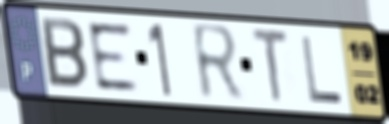1: (146, 21, 174, 98)
B: (39, 15, 91, 93)
E: (84, 20, 142, 93)
L: (298, 33, 345, 106)
R: (188, 20, 247, 105)
T: (249, 26, 291, 107)
